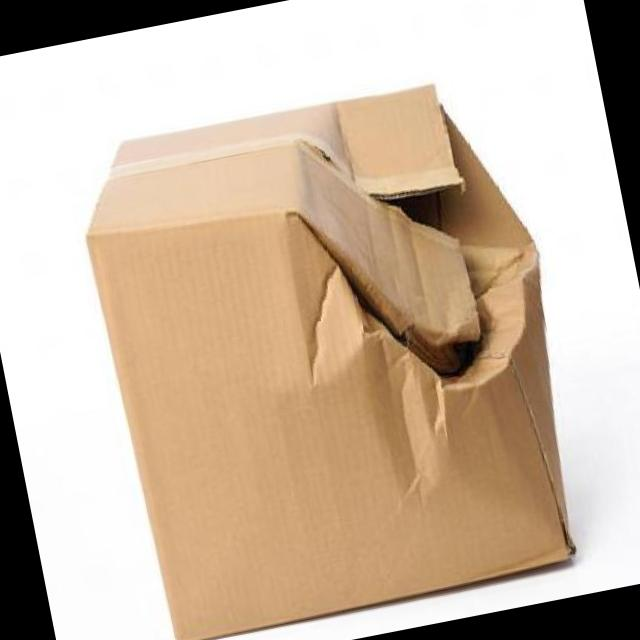box: (1, 10, 639, 609)
